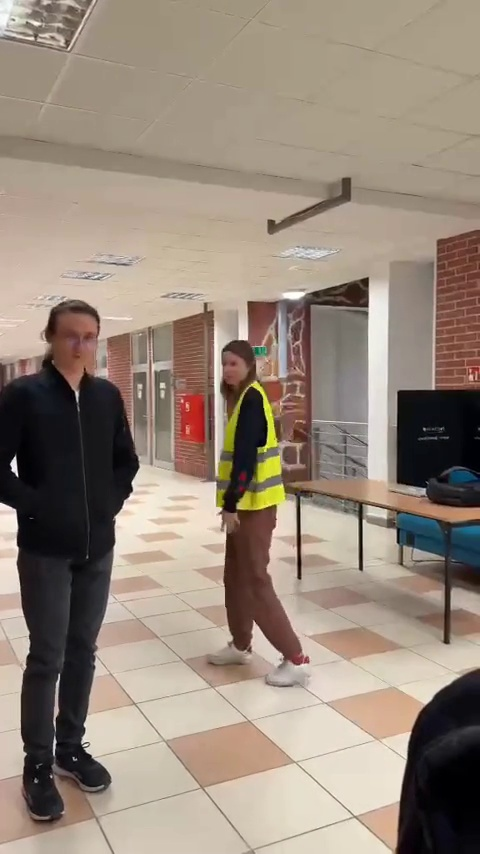no vest: (5, 301, 142, 834)
vest: (199, 343, 314, 698)
